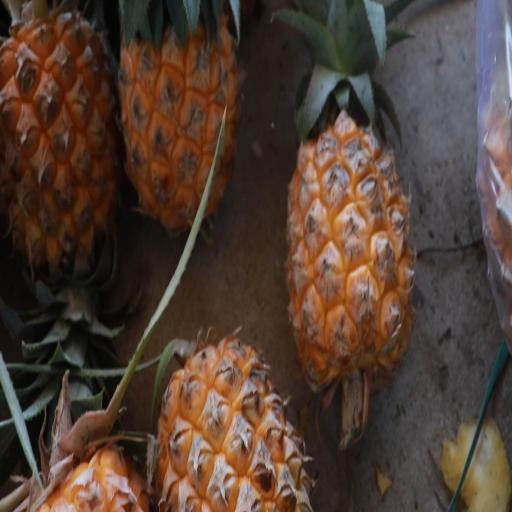Pineapple - v8 v1: (282, 91, 421, 395), (0, 1, 122, 278), (149, 314, 319, 512), (118, 4, 246, 247)
